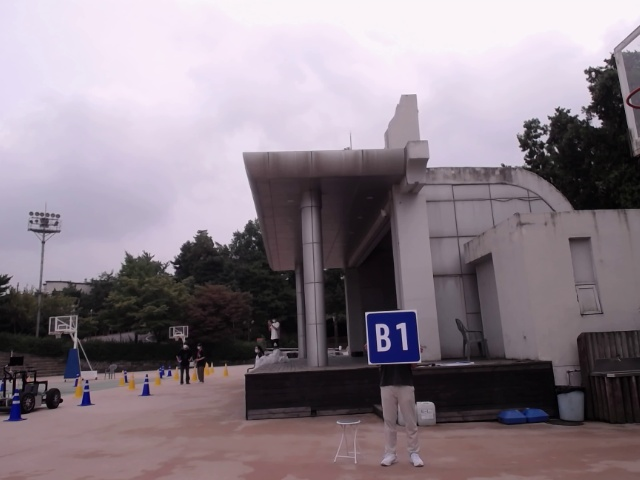delivery_b1: (366, 310, 422, 365)
